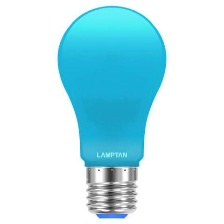light_bulb: (51, 3, 169, 222)
